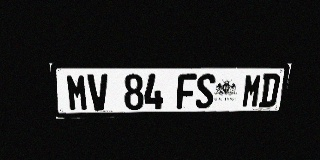4: (144, 74, 164, 110)
8: (124, 74, 144, 110)
D: (259, 74, 281, 107)
F: (176, 74, 197, 109)
M: (65, 74, 89, 111), (241, 74, 263, 108)
S: (195, 74, 216, 109)
V: (87, 74, 109, 111)
